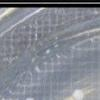white: (69, 86, 88, 100), (24, 94, 40, 100)
